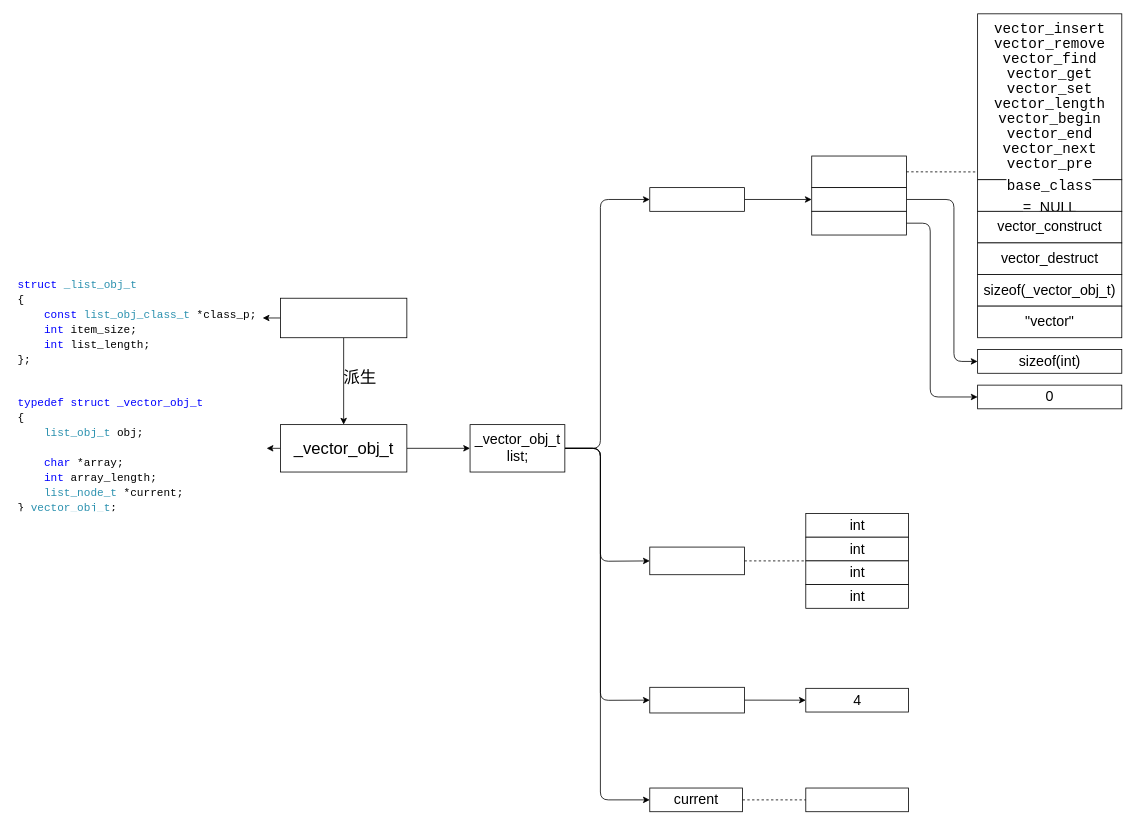
The diagram is 1135 pixels wide and 826 high, and some of its shapes have lost their labels. The box of each missing label's shape, as (x1, y1, x2, y2) in pixels:
_list_obj_t: (280, 297, 407, 338)
array: (649, 546, 745, 575)
array_length: (649, 687, 745, 713)
class_p: (811, 155, 907, 188)
item_size: (811, 187, 907, 211)
list_length: (811, 211, 907, 235)
NULL: (805, 787, 908, 812)
obj: (649, 187, 745, 211)
